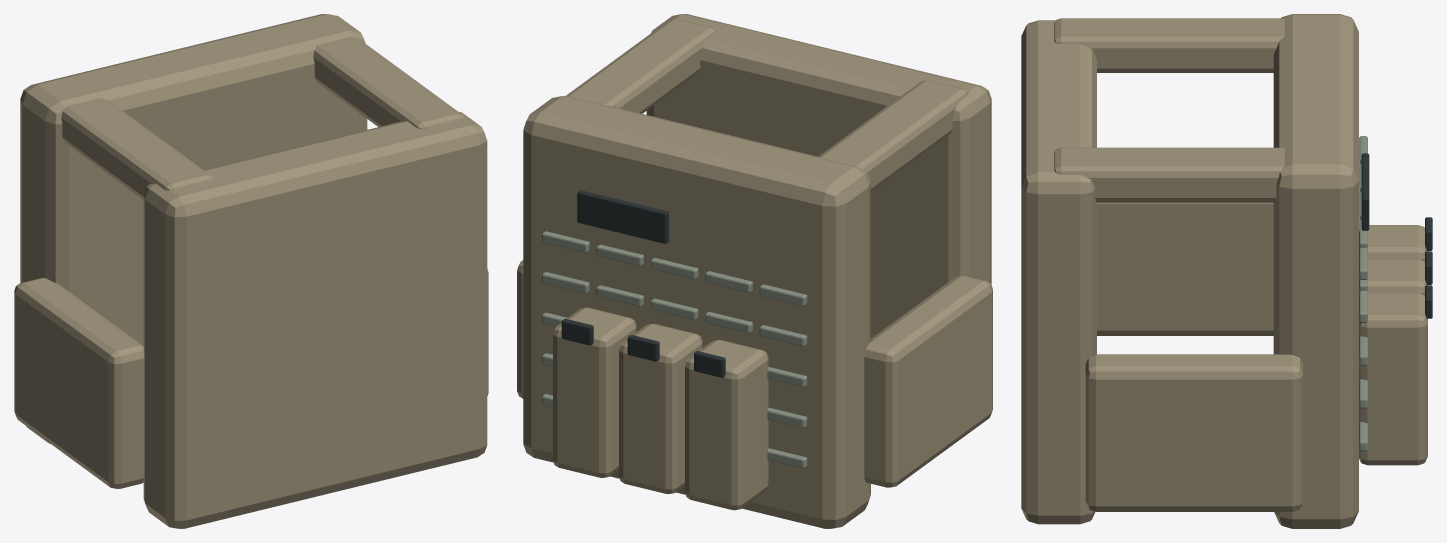
The model's file is body_armor_fiber_1b.glb.
3 renders of one model, left to right at view 1: azimuth 30°, elevation 25°; view 2: azimuth 150°, elevation 25°; view 3: azimuth 270°, elevation 25°, orthographic. The views are drawn at different scales.
Visible parts, largest first — view 1: body_armor_fiber_1b; view 2: body_armor_fiber_1b; view 3: body_armor_fiber_1b.
Part boxes in pixels (left/top/right/bottom): body_armor_fiber_1b: left=14, top=14, right=488, bottom=528; body_armor_fiber_1b: left=517, top=14, right=992, bottom=528; body_armor_fiber_1b: left=1021, top=14, right=1432, bottom=528.
Bounding box in the file's own units: 0.49 × 0.425 × 0.435.
